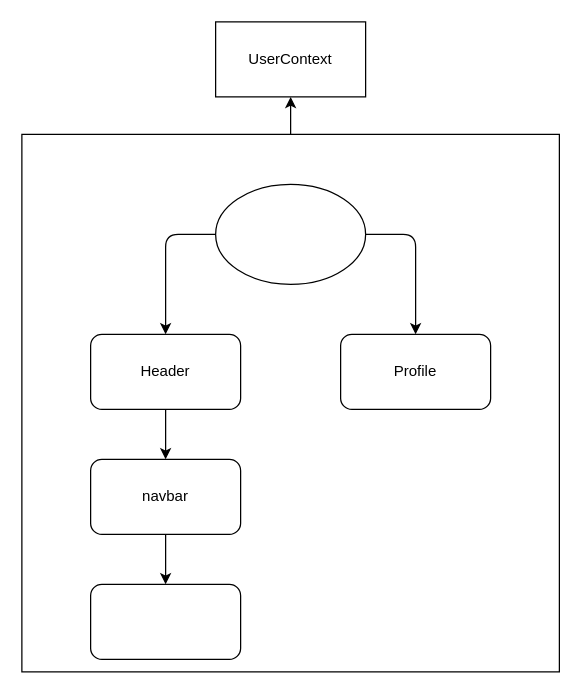
The diagram is 581 pixels wide and 694 high, and some of its shapes have lost their labels. The shapes that lost their labels are listed below. From the top down, each one's box as (x1, y1, x2, y2) in pixels, then its label:
(214, 183, 366, 284): App
(89, 583, 241, 659): Avatar
